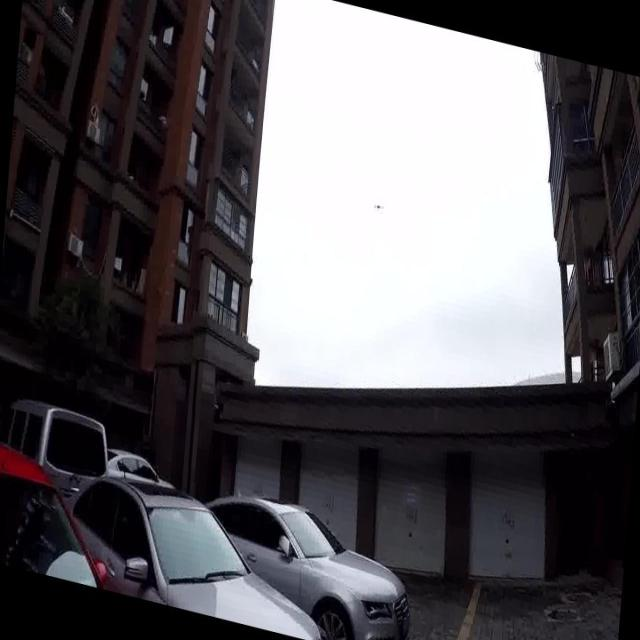drone: (370, 194, 384, 218)
